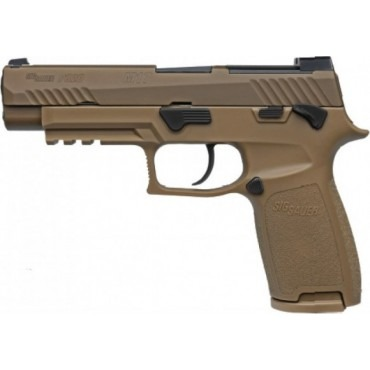gun: (2, 50, 370, 316)
